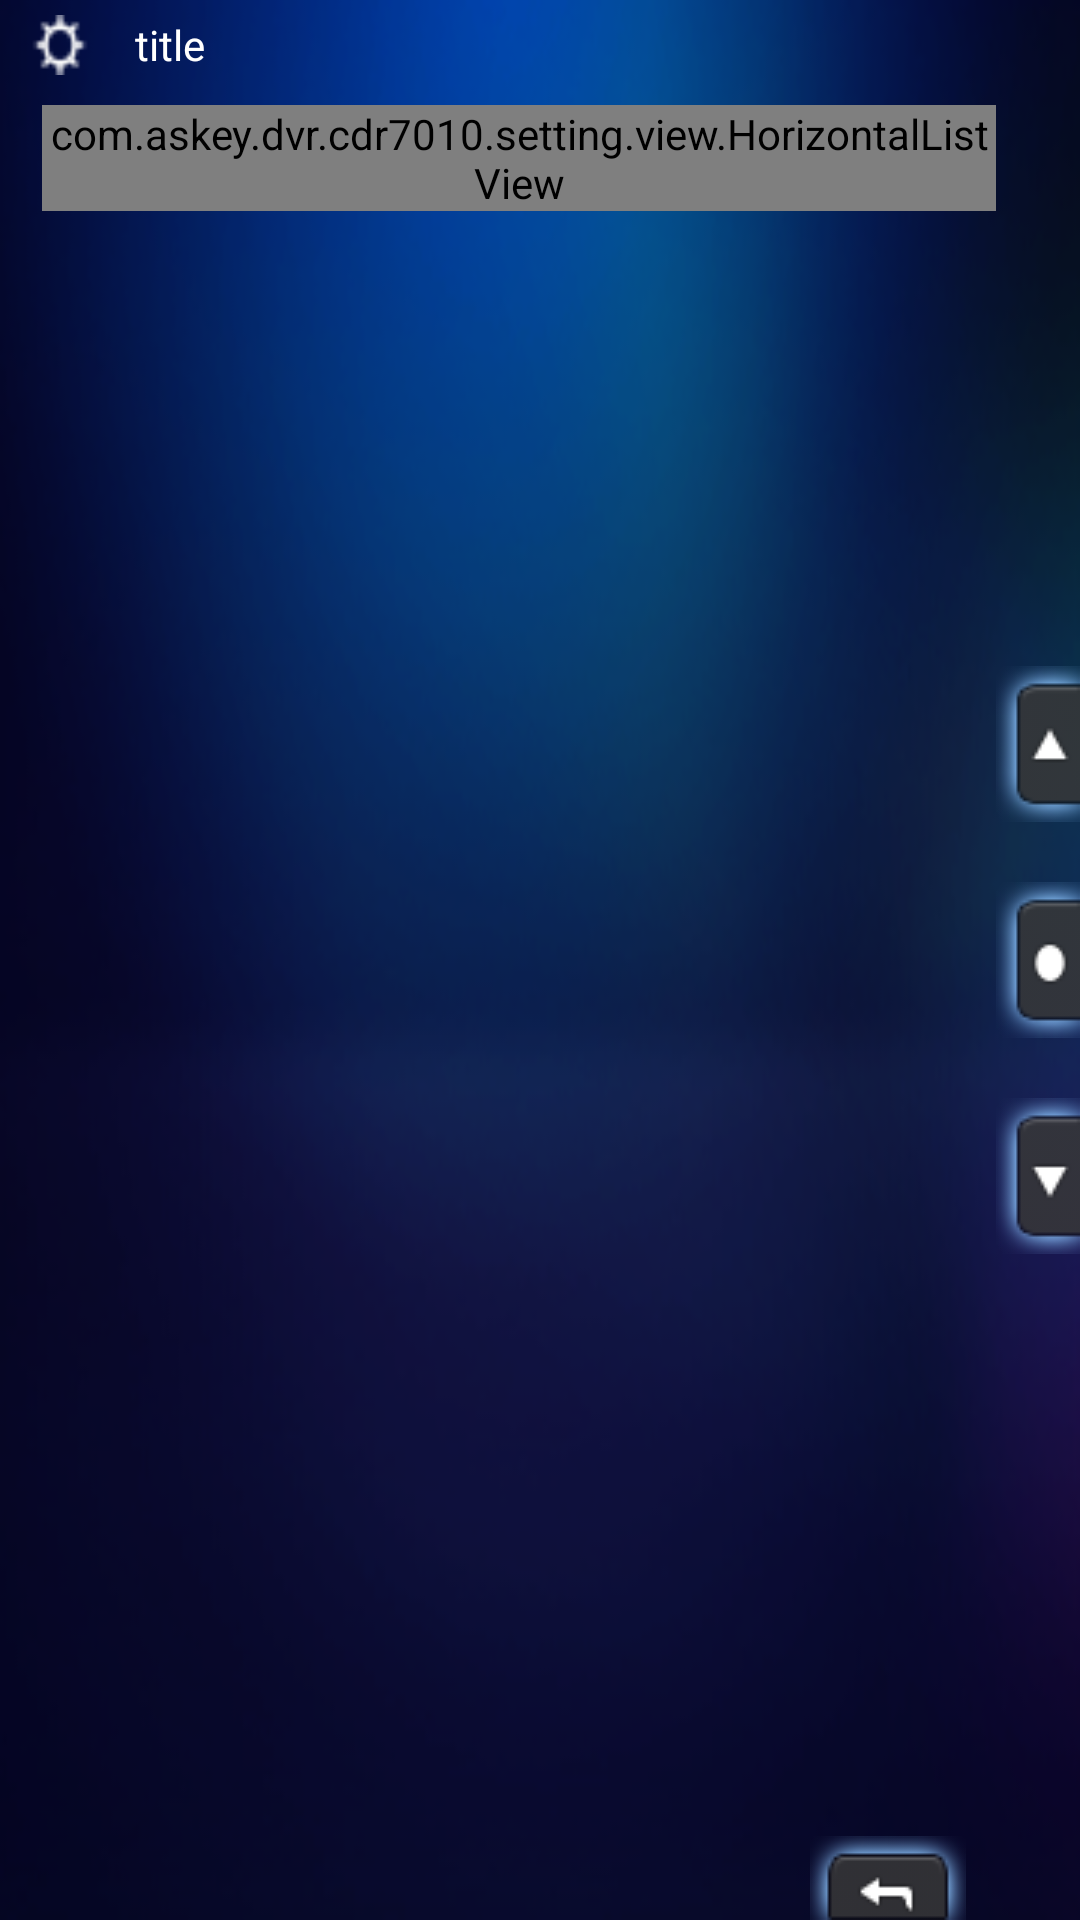

Point at icon controls on the screen. Image size 1080w x 1920h, points as point (x, y).
sub setting: point (60, 45)
tag menu main back: point (887, 1878)
tag menu main enter: point (1040, 960)
tag menu main movedown: point (1040, 1176)
tag menu main moveup: point (1040, 745)
